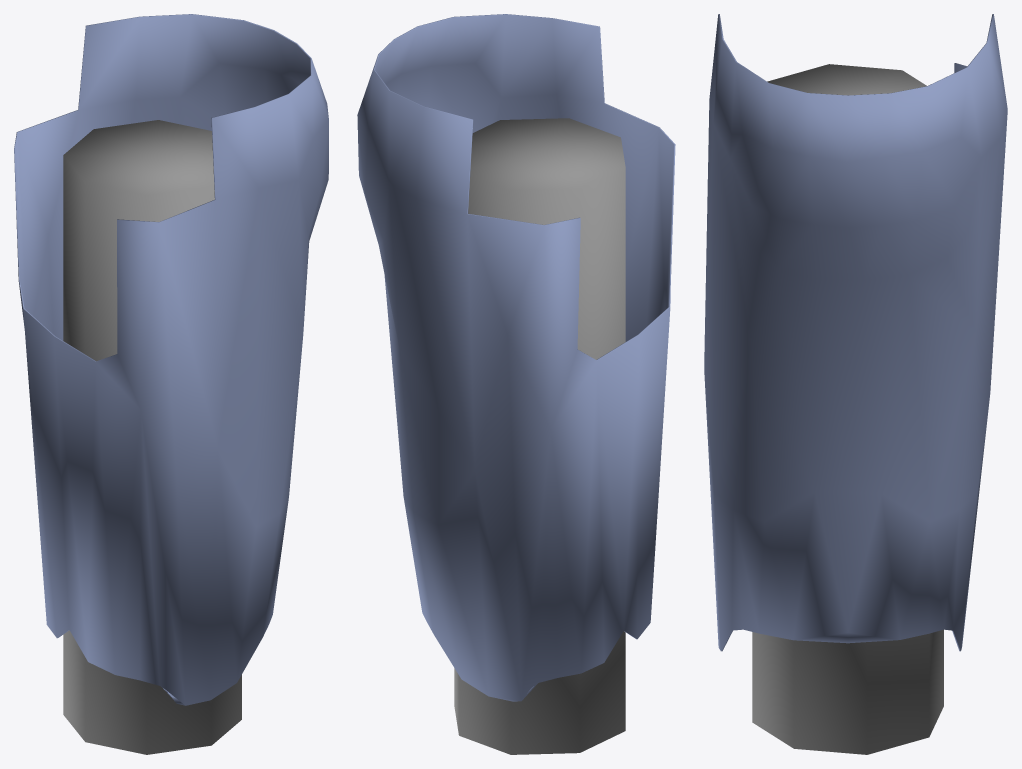
Rendered from icub_simple_l_shank.dae.
The picture shows the model from 3 angles, left to right: view 1: azimuth 30°, elevation 25°; view 2: azimuth 150°, elevation 25°; view 3: azimuth 270°, elevation 25°; orthographic projection. The views are drawn at different scales.
Parts seen in each view (by area): view 1: l_shank_mesh; view 2: l_shank_mesh; view 3: l_shank_mesh.
Boxes of the visible parts, x1,y1,x2,y2 form: l_shank_mesh: (14, 14, 328, 754); l_shank_mesh: (357, 14, 675, 754); l_shank_mesh: (704, 14, 1007, 754).
Size of the model in its own units: 0.1035 by 0.2446 by 0.0961.
